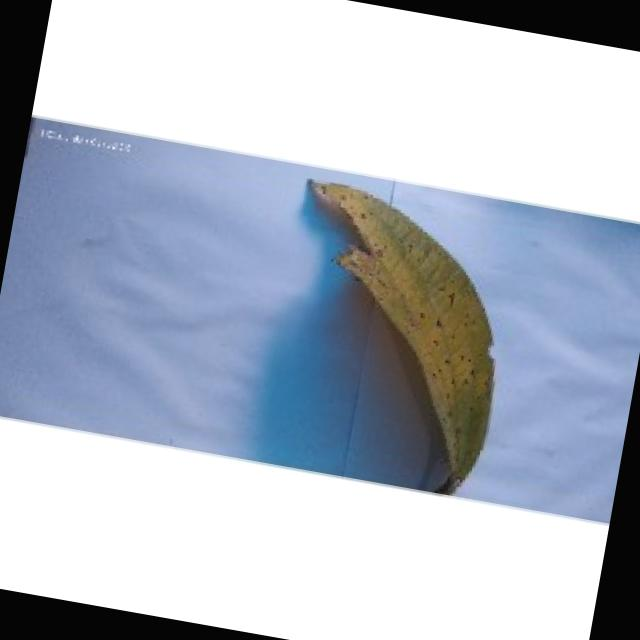slow-decline: (249, 177, 526, 502)
